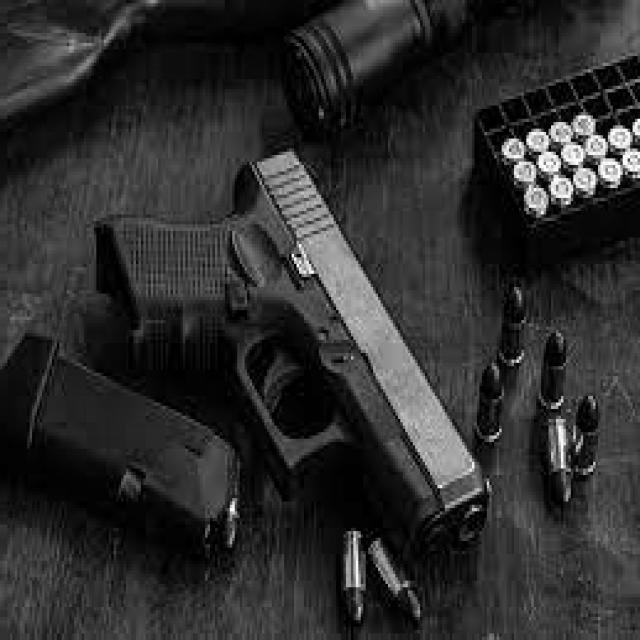weapons: (94, 126, 495, 543)
